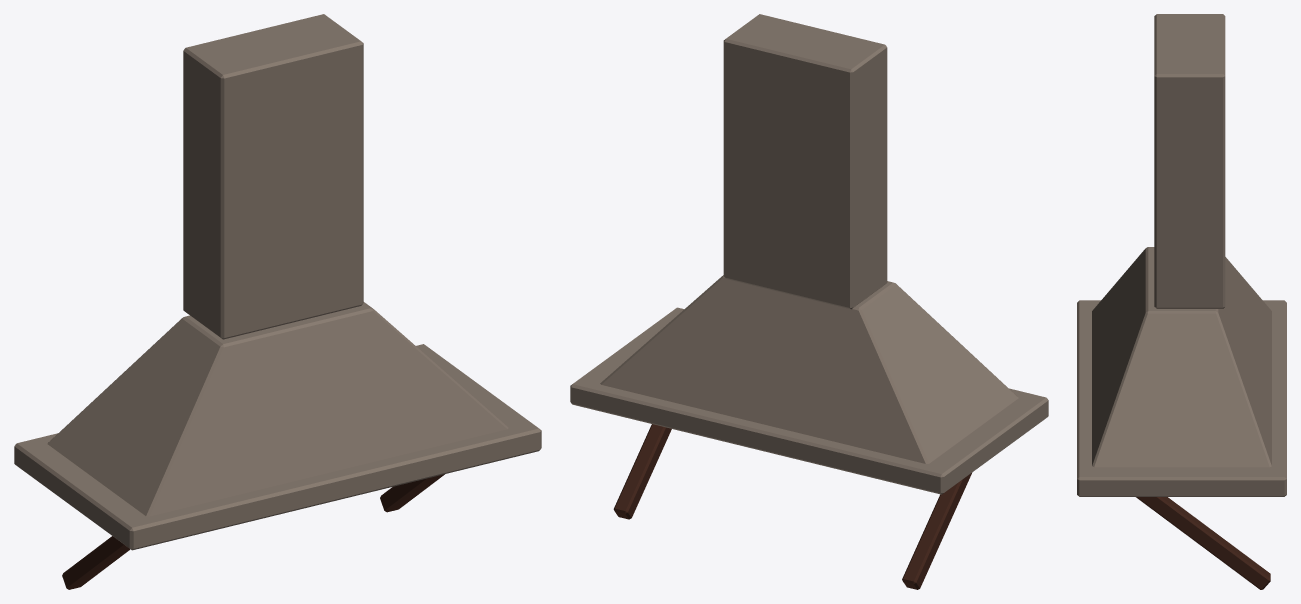
The model's file is cooker_hood.glb.
3 renders of one model, left to right at view 1: azimuth 30°, elevation 25°; view 2: azimuth 150°, elevation 25°; view 3: azimuth 270°, elevation 25°, orthographic. The views are drawn at different scales.
Parts seen in each view (by area): view 1: Canopy, Flue, Rim, Bracket, Bracket_001; view 2: Canopy, Flue, Rim, Bracket, Bracket_001; view 3: Canopy, Flue, Rim, Bracket_001.
Boxes of the visible parts, x1,y1,x2,y2 form: Canopy: (47,302,508,516); Flue: (183,14,363,339); Rim: (14,344,541,550); Bracket: (62,536,130,589); Bracket_001: (380,474,444,512); Canopy: (600,275,1018,463); Flue: (723,14,887,309); Rim: (570,307,1048,494); Bracket: (902,473,971,589); Bracket_001: (613,424,671,519); Canopy: (1092,247,1271,467); Flue: (1154,14,1225,308); Rim: (1077,300,1286,496); Bracket_001: (1136,497,1270,589).
Bounding box in the file's own units: 1.71 × 2.12 × 0.85.
